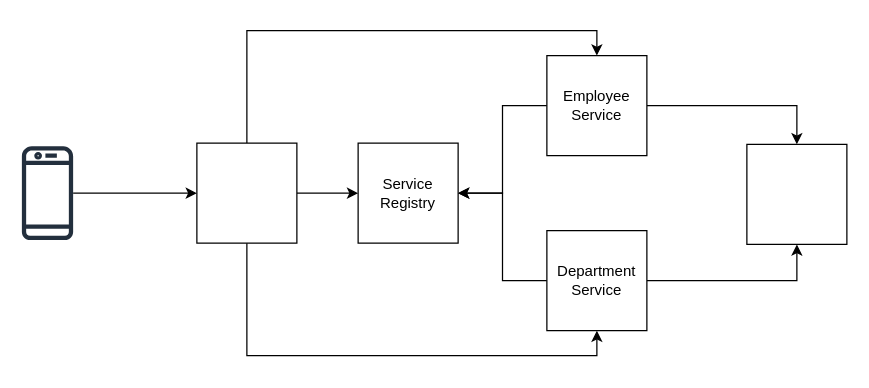
Some shapes in this 869 by 388 pixel diagram are drawn without their labels. Here are the shapes that lost their labels. From the top down, the centre of each, then its label:
pixel 246 192: API Gateway
pixel 796 193: Config Service
